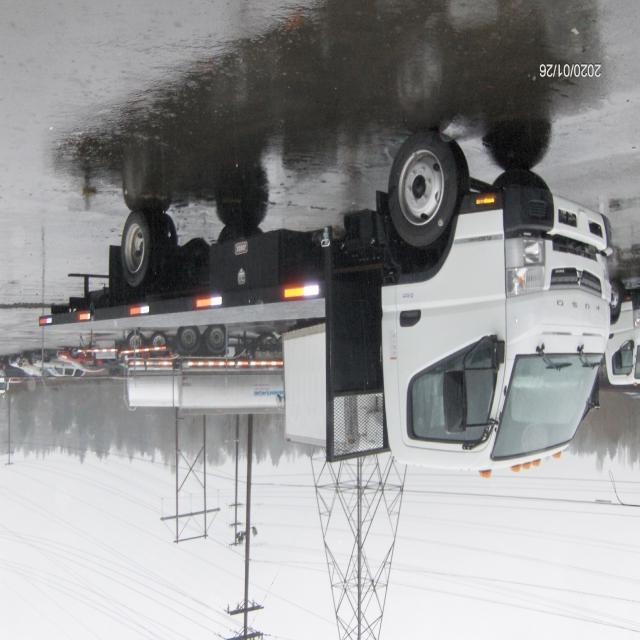Truck: (39, 130, 612, 473)
